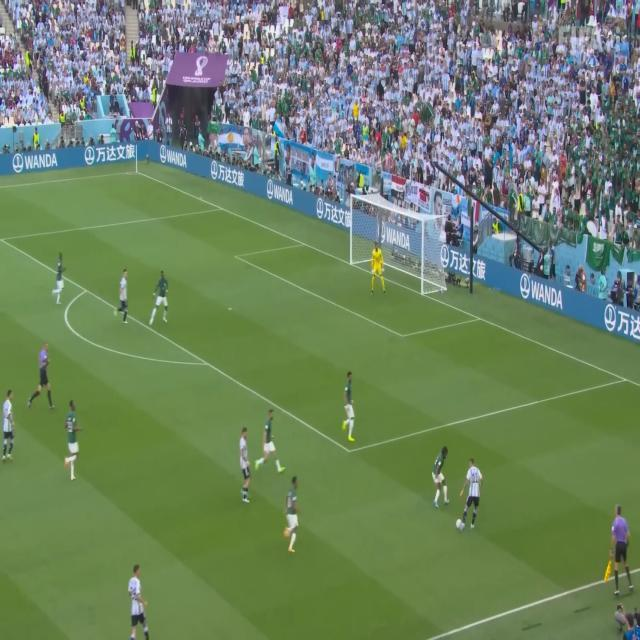football: (449, 514, 482, 551)
